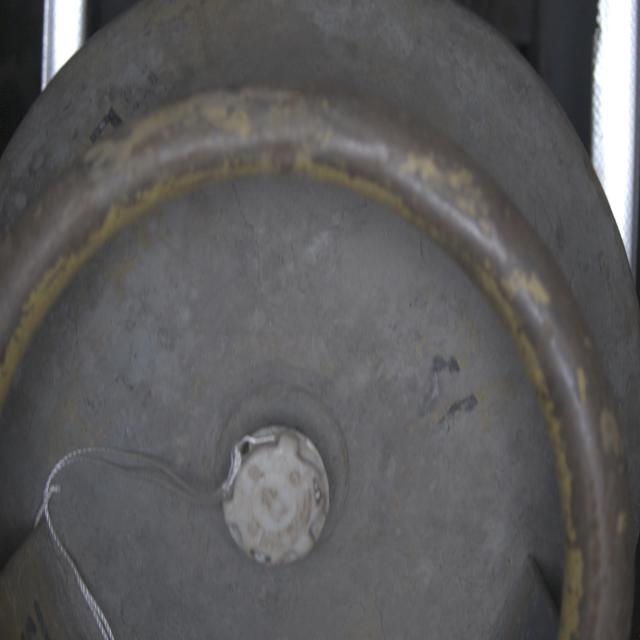Cap: (218, 419, 341, 573)
